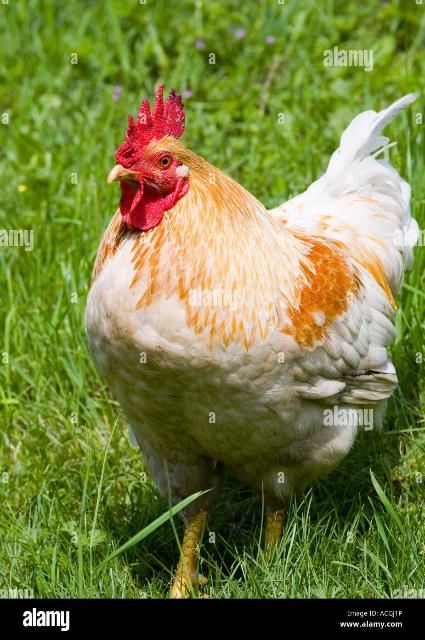Chicken: (82, 81, 425, 599)
